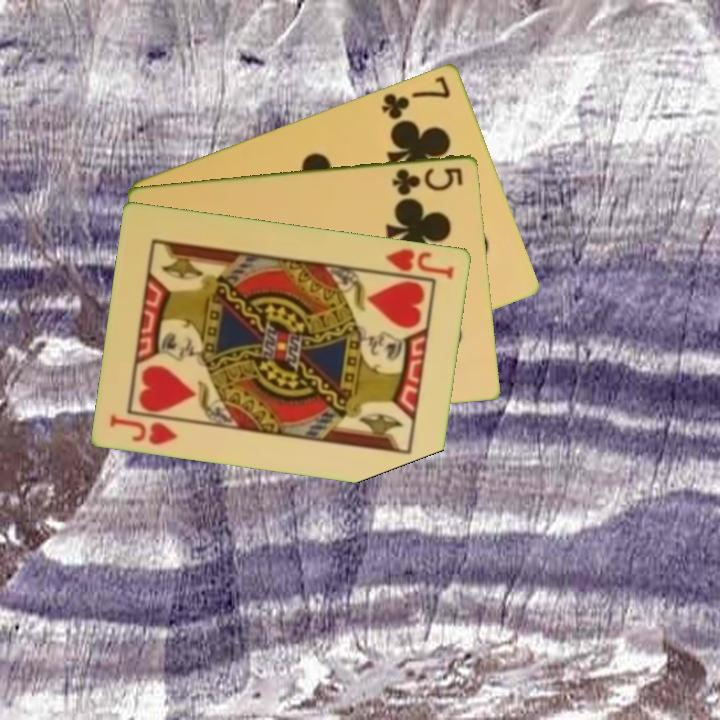5c: (389, 163, 466, 198)
7c: (378, 72, 454, 122)
Jh: (374, 244, 457, 282), (106, 410, 181, 447)
